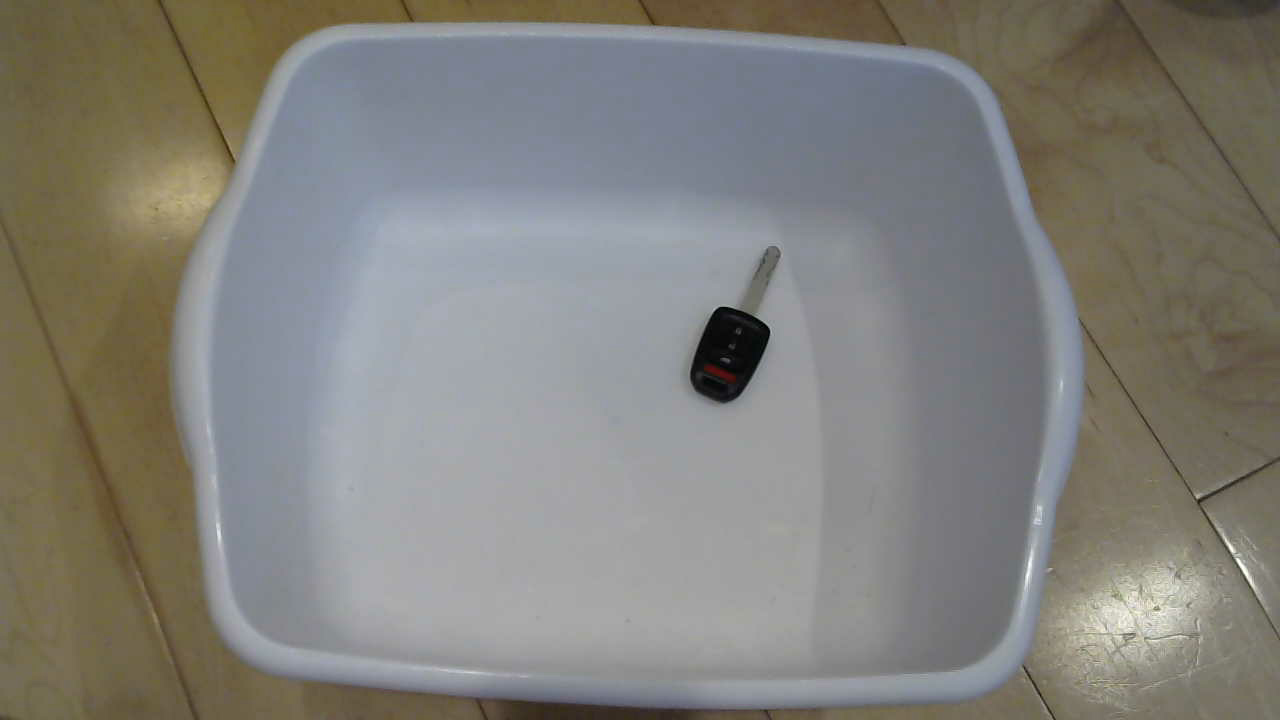key: (677, 239, 831, 413)
